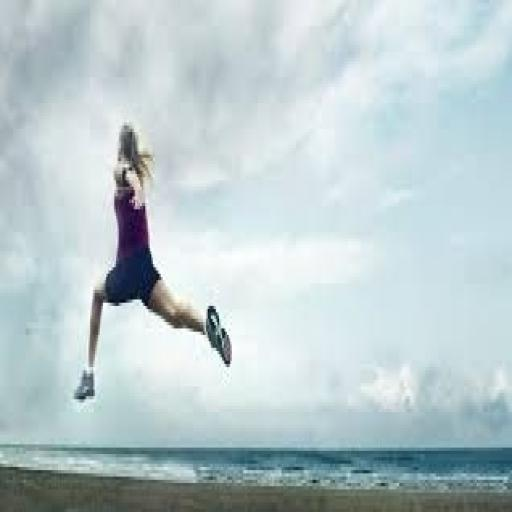running: (71, 119, 235, 406)
